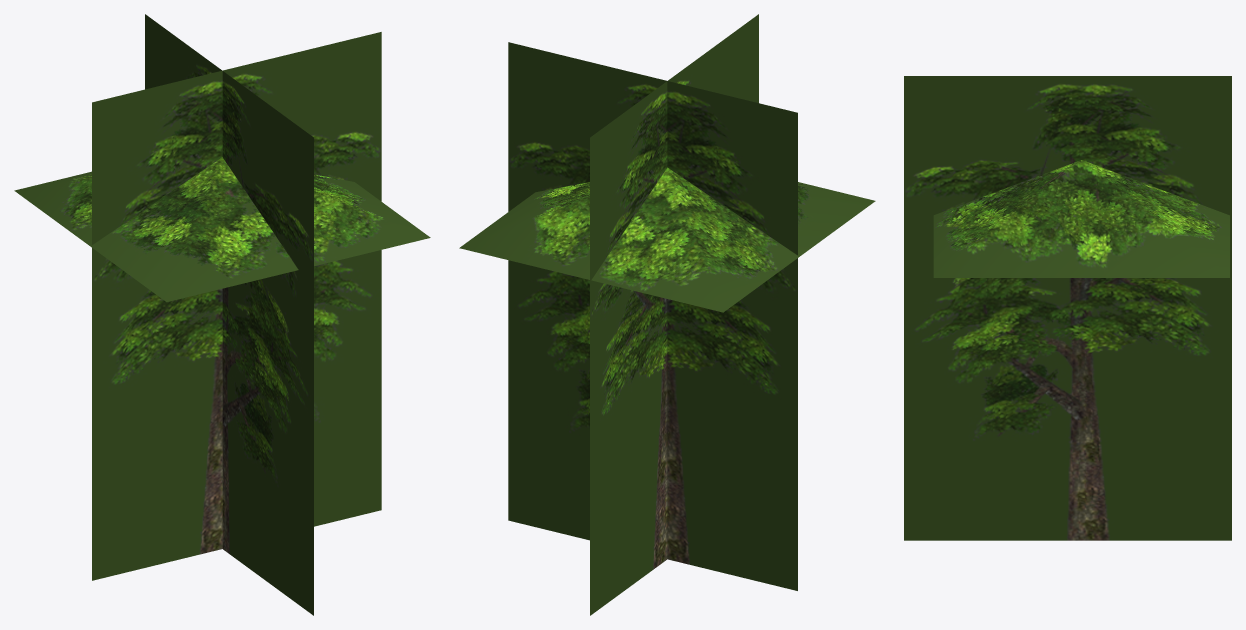
File: tree_002_L.FBX
The picture shows the model from 3 angles, left to right: view 1: azimuth 30°, elevation 25°; view 2: azimuth 150°, elevation 25°; view 3: azimuth 270°, elevation 25°; orthographic projection. The views are drawn at different scales.
Visible parts, largest first — view 1: t002_2; view 2: t002_2; view 3: t002_2.
Boxes of the visible parts, <box> form: t002_2: <box>14,14,430,615</box>; t002_2: <box>459,14,875,615</box>; t002_2: <box>904,76,1231,540</box>.
Size of the model in its own units: 9.29 by 14.59 by 9.33.
Materials: 1 (1 with a texture image).
